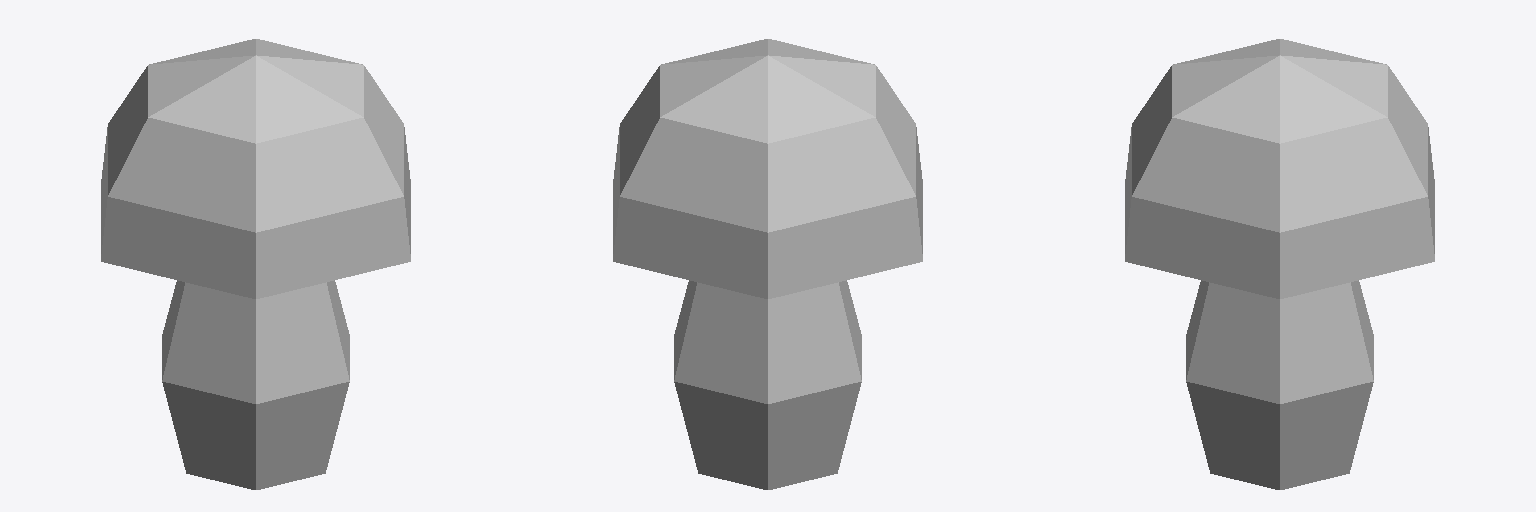
Rendered from Forest_C_Mushroom_01.obj.
The picture shows the model from 3 angles: view 1: azimuth 30°, elevation 25°; view 2: azimuth 150°, elevation 25°; view 3: azimuth 270°, elevation 25°; orthographic projection.
Visible parts, largest first — view 1: Forest_C_Mushroom_01; view 2: Forest_C_Mushroom_01; view 3: Forest_C_Mushroom_01.
Part boxes in pixels (bbox=[...]): Forest_C_Mushroom_01: bbox=[101, 39, 410, 489]; Forest_C_Mushroom_01: bbox=[613, 39, 922, 489]; Forest_C_Mushroom_01: bbox=[1125, 39, 1434, 489].
Bounding box in the file's own units: 31.12 × 38.42 × 26.95.